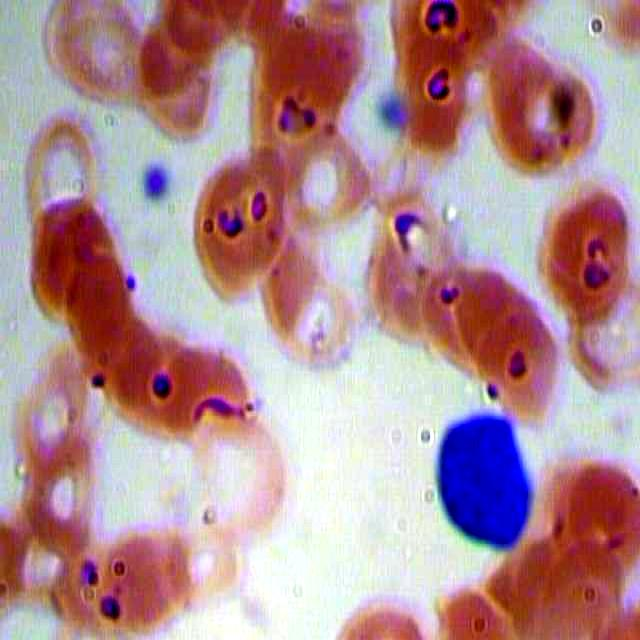Platelets: (140, 156, 174, 208), (373, 82, 407, 134)
RBC: (186, 149, 294, 315), (544, 170, 638, 334), (472, 20, 565, 184), (22, 189, 122, 324), (265, 248, 359, 387), (171, 315, 265, 453), (475, 305, 568, 431), (392, 237, 485, 363), (547, 514, 640, 640), (488, 514, 581, 640), (439, 255, 532, 380), (547, 443, 640, 568), (137, 20, 230, 145), (385, 40, 478, 165), (61, 259, 140, 393), (93, 299, 172, 433), (117, 311, 196, 445), (11, 348, 91, 480), (19, 416, 99, 548), (14, 103, 94, 235), (281, 125, 373, 235), (96, 532, 194, 635), (515, 55, 607, 164), (562, 274, 640, 398), (155, 518, 255, 606)
WBC: (415, 406, 533, 570)
